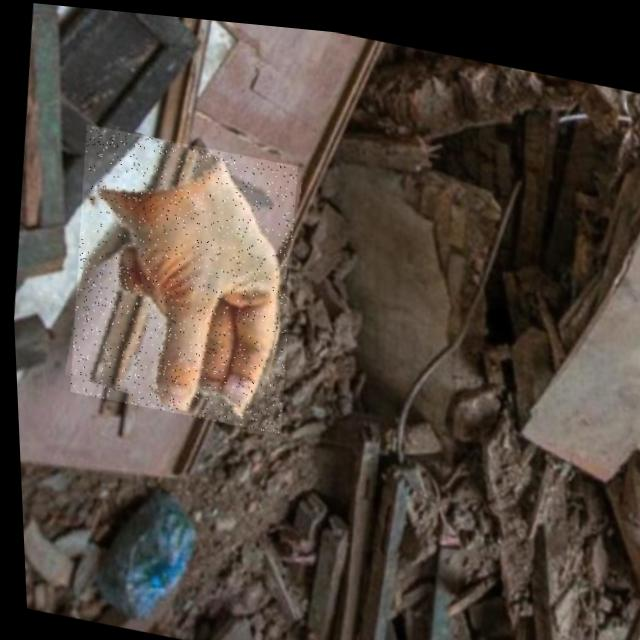Person in Rubble: (56, 119, 304, 430)
